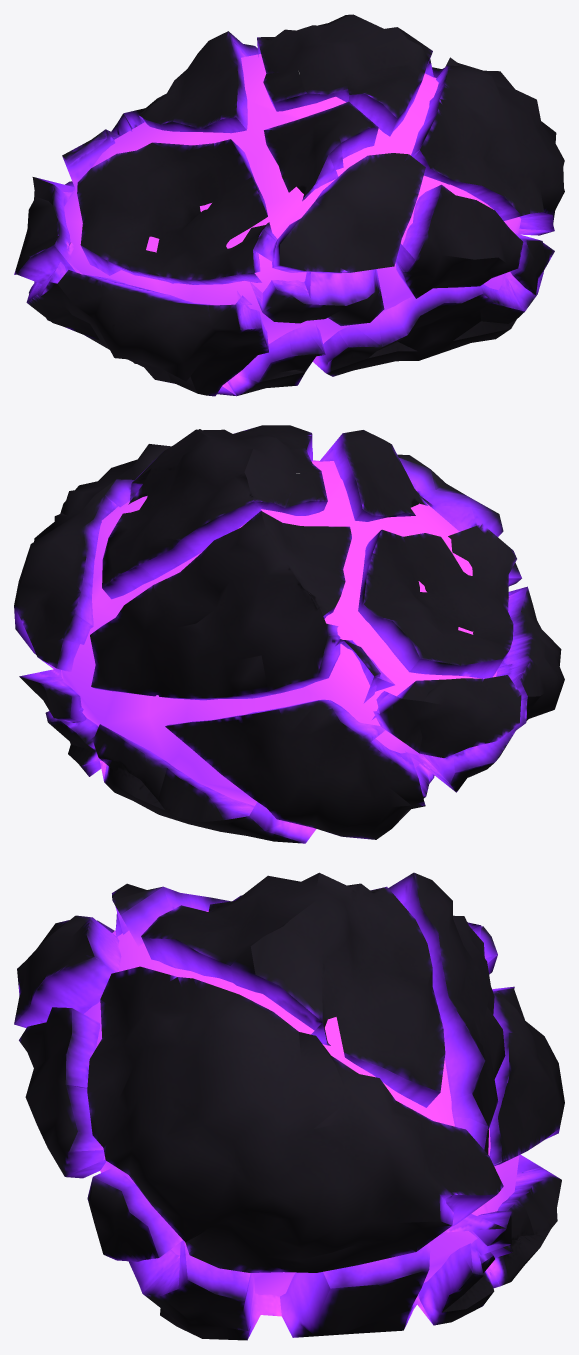
The model's file is mineral_abismal.fbx.
3 renders of one model, top to bottom at view 1: azimuth 30°, elevation 25°; view 2: azimuth 150°, elevation 25°; view 3: azimuth 270°, elevation 25°, orthographic. The views are drawn at different scales.
Parts seen in each view (by area): view 1: mineral_abismal, mineral_abismal_neon; view 2: mineral_abismal, mineral_abismal_neon; view 3: mineral_abismal, mineral_abismal_neon.
Part boxes in pixels (box(x1,y1,x2,y2)): mineral_abismal: box(14, 14, 564, 396); mineral_abismal_neon: box(64, 54, 521, 344); mineral_abismal: box(14, 425, 564, 843); mineral_abismal_neon: box(61, 460, 497, 805); mineral_abismal: box(14, 872, 564, 1340); mineral_abismal_neon: box(84, 911, 519, 1296).
Bounding box in the file's own units: 2.94 × 1.71 × 2.23.
Materials: 2 (2 with a texture image).
